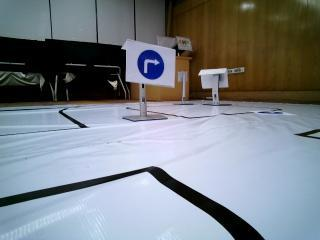right: (125, 39, 177, 89)
